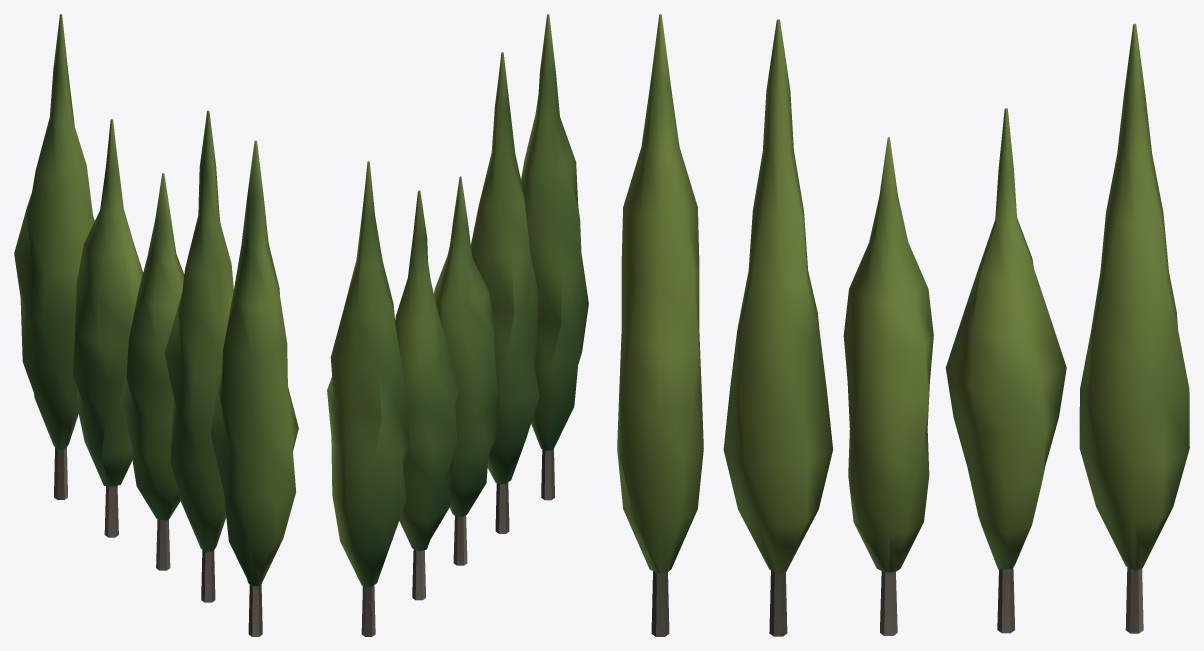
File: poplar_row.glb
The picture shows the model from 3 angles, left to right: view 1: azimuth 30°, elevation 25°; view 2: azimuth 150°, elevation 25°; view 3: azimuth 270°, elevation 25°; orthographic projection. The views are drawn at different scales.
Parts seen in each view (by area): view 1: poplar_row_mesh; view 2: poplar_row_mesh; view 3: poplar_row_mesh.
Part boxes in pixels (x1,y1,x2,y2): poplar_row_mesh: (14,14,298,636); poplar_row_mesh: (327,14,588,636); poplar_row_mesh: (617,14,1189,636).
Size of the model in its own units: 3.43 by 18.33 by 15.37.
